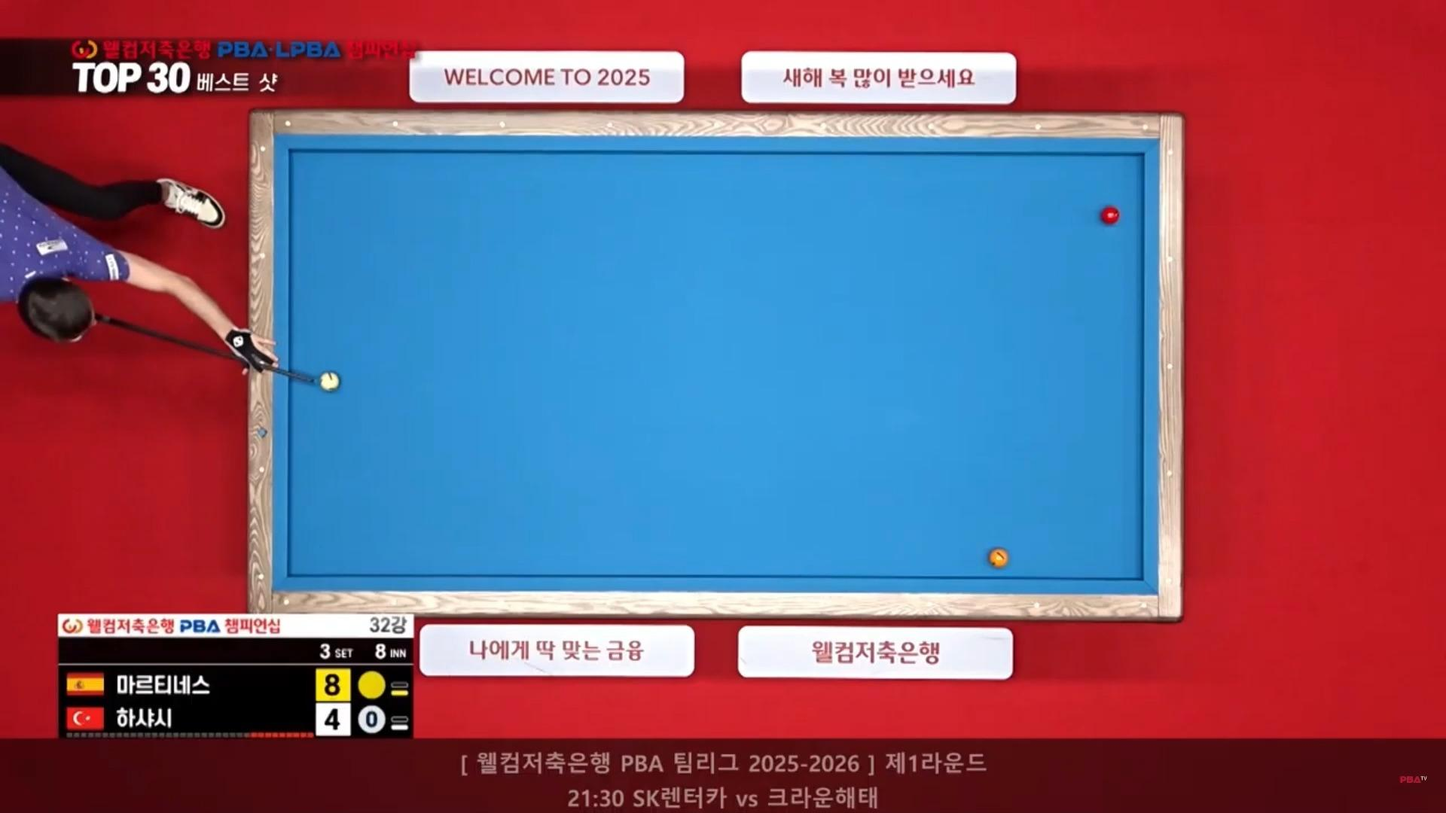Red: (1100, 208, 1123, 226)
White: (316, 371, 342, 391)
Yellow: (991, 551, 1014, 570)
